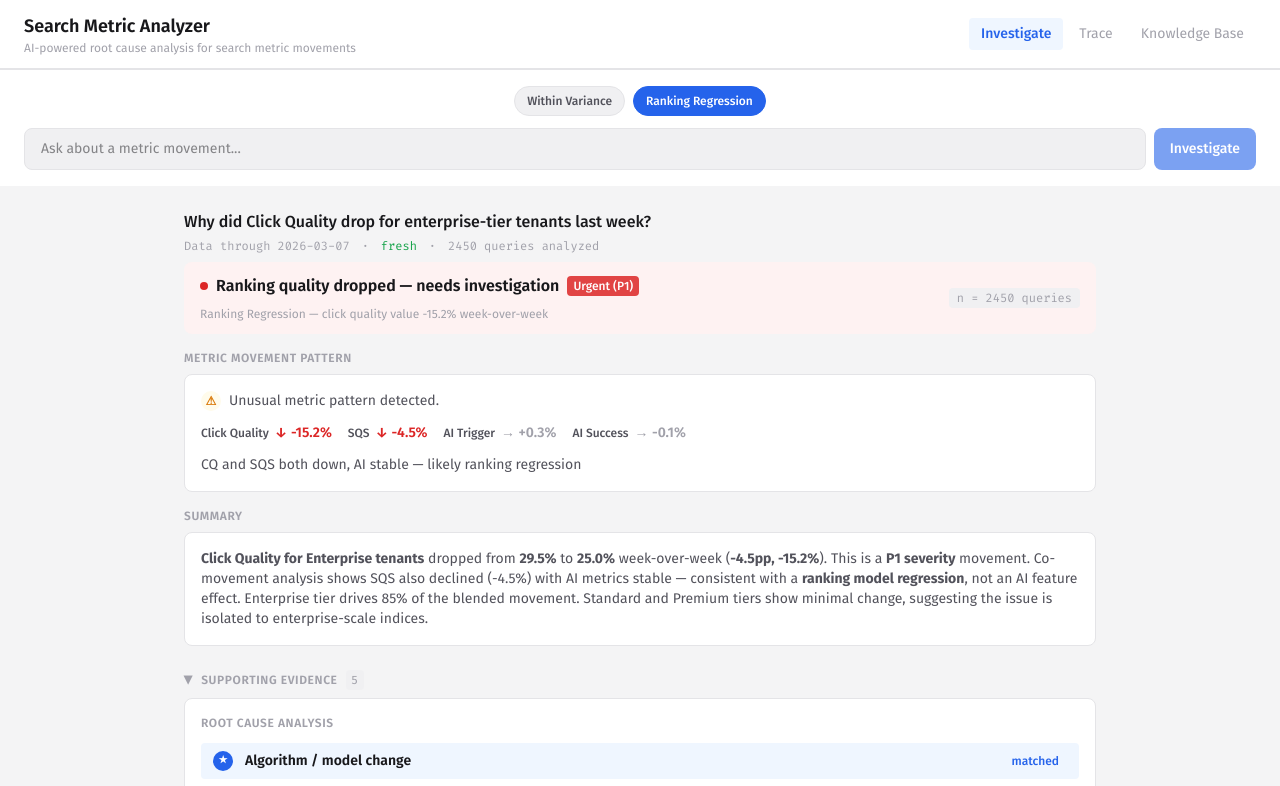
Scenario: App › switches back to Investigate tab from another tab
Go to Knowledge Base tab (avoids ambiguity with Trace tab text)
What coordinates should you click on to do the following:
click the button "Knowledge Base"
I would click on:
 (1192, 34)
Its box is x1=1129 y1=18 x2=1256 y2=50.
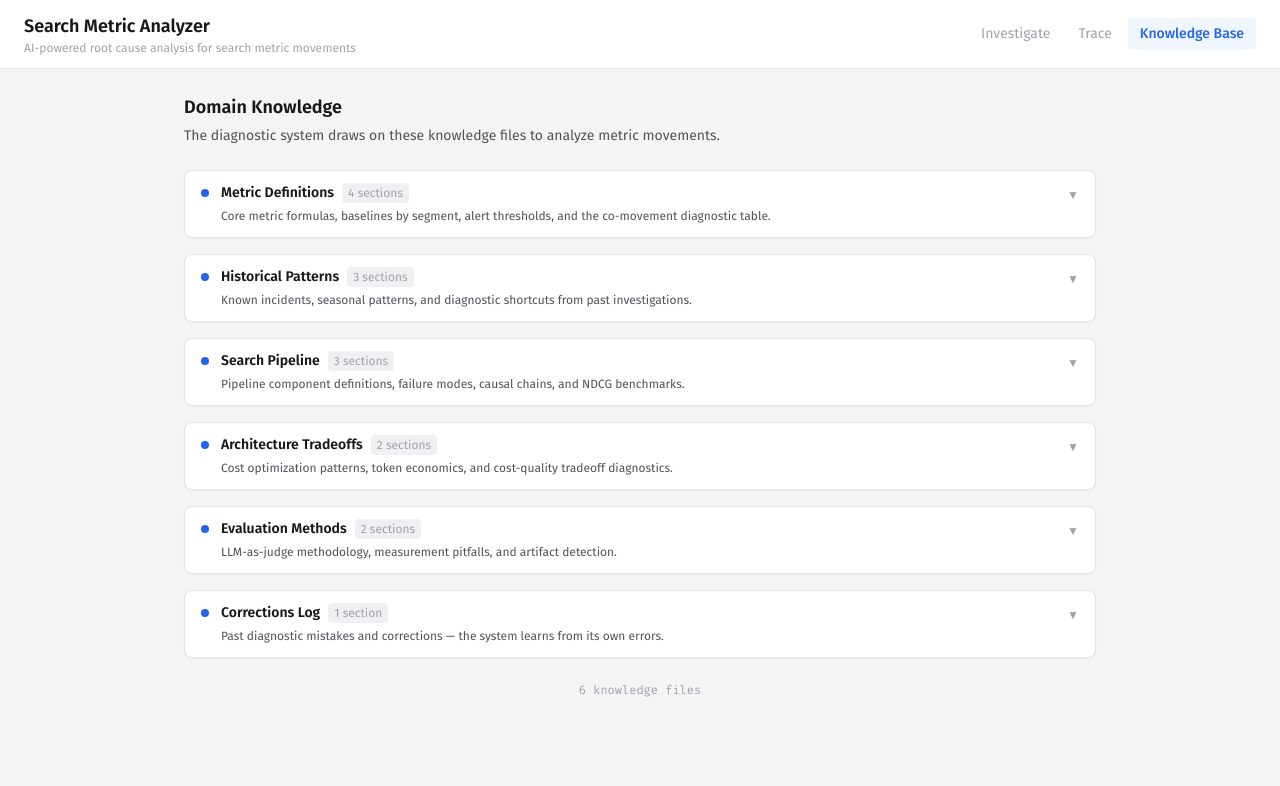
Result: the heading "Domain Knowledge" is shown at x1=184 y1=96 x2=342 y2=118
What coordinates should you click on to do the following:
click the button "Investigate"
I would click on:
 (1016, 34)
Its box is x1=969 y1=18 x2=1062 y2=50.
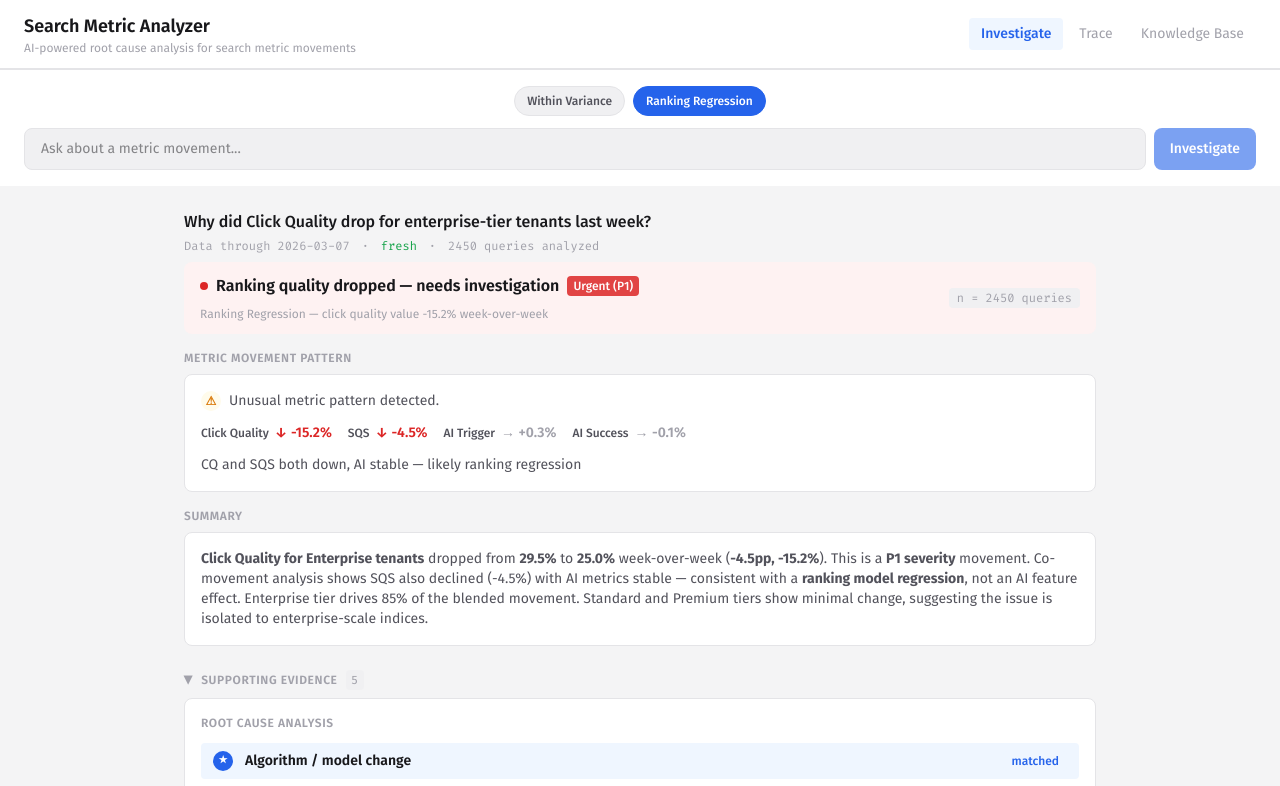
Result: the button "Ranking Regression" is shown at x1=633 y1=86 x2=766 y2=116
